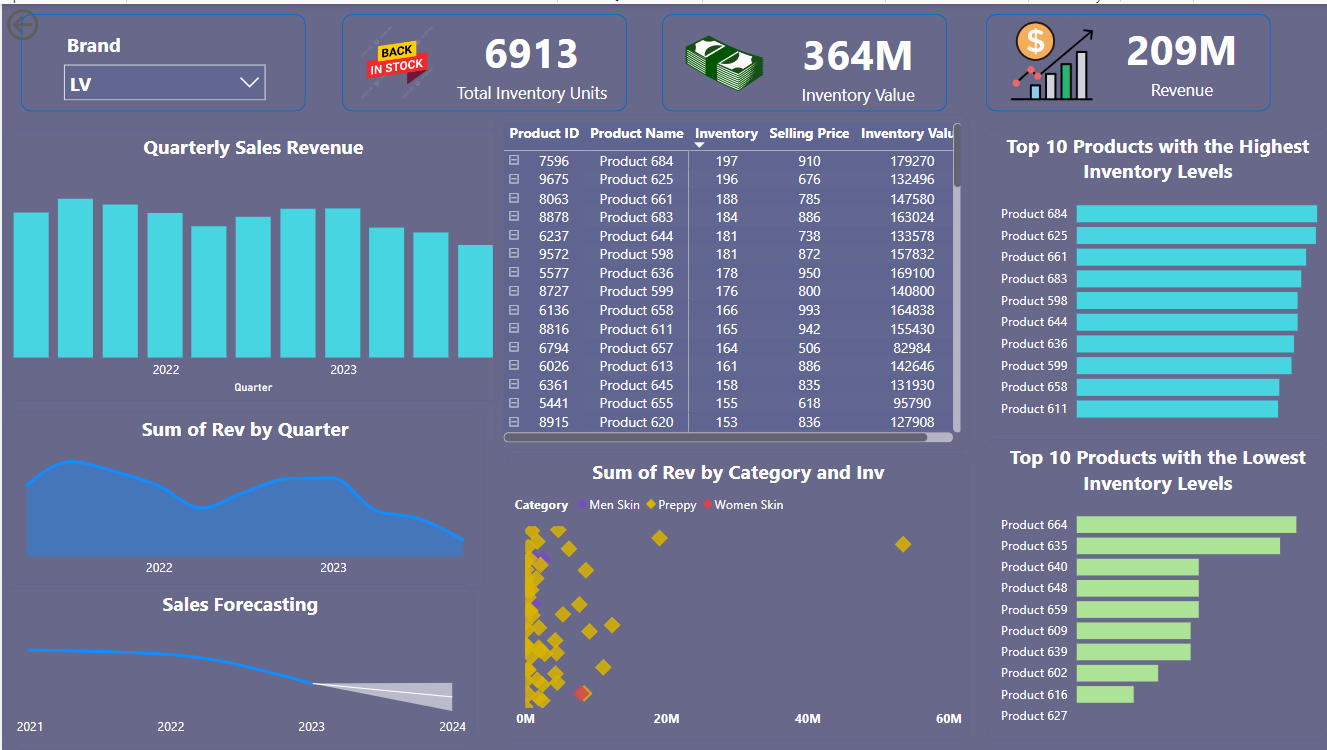

The page's visual inventory and layout, read from the dashboard file:
{"tool":"powerbi","page":{"name":"Page 1","canvas":[1280,720],"ordinal":0},"visuals":[{"type":"pivotTable","fields":{"Rows":["Master.Product ID","Master.Product Name"],"Values":["Sum(Master.Inv)","Calendar.Total SP Value","Calendar.Inventory Value"]},"box":[475,106.2,458.8,323.8],"z":0},{"type":"actionButton","box":[0,0,100,40],"z":1000},{"type":"clusteredColumnChart","title":"Quarterly Sales Revenue","fields":{"Category":["Calendar.Quarter"],"Y":["Sum(Sales.Rev)"]},"box":[2.5,120,478.8,262.5],"z":2000},{"type":"areaChart","title":"Sum of Rev by Quarter","fields":{"Category":["Calendar.Quarter"],"Y":["Sum(Sales.Rev)"]},"box":[2.5,393.8,462.5,171.2],"z":3000},{"type":"clusteredBarChart","title":"Top 10 Products with the Highest Inventory Levels","fields":{"Category":["Master.Product Name"],"Y":["Calendar.Total Inventory Units"]},"box":[949.1,119.4,330.5,295.5],"z":4000},{"type":"clusteredBarChart","title":"Top 10 Products with the Lowest Inventory Levels","fields":{"Category":["Master.Product Name"],"Y":["Calendar.Total Inventory Units"]},"box":[949.1,419.7,330.5,290.7],"z":5000},{"type":"shape","box":[327.8,10,275.1,94.1],"z":6000},{"type":"shape","box":[18.1,9.6,275,94.1],"z":7000},{"type":"shape","box":[949.1,9.6,275,94.1],"z":8000},{"type":"shape","box":[637.1,10,275.1,94.1],"z":9000},{"type":"card","fields":{"Values":["Calendar.Total Inventory Units"]},"box":[408.8,9.6,205,94.1],"z":10000},{"type":"card","fields":{"Values":["Calendar.Inventory Value"]},"box":[723.6,12.1,205,94.1],"z":11000},{"type":"slicer","fields":{"Values":["Master.Brand"]},"box":[49.4,21.7,214.7,71.2],"z":12000},{"type":"card","fields":{"Values":["Sum(Sales.Rev)"]},"box":[1036,7.2,205,94.1],"z":13000},{"type":"image","box":[333.1,11.5,96.9,89.2],"z":14000},{"type":"image","box":[651.5,10,91.5,91.5],"z":15000},{"type":"image","box":[967.7,8.5,91.5,93.1],"z":16000},{"type":"lineChart","title":"Sales Forecasting","fields":{"Y":["Sum(Sales.Rev)"],"Category":["Calendar.Date.Variation.Date Hierarchy.Year"]},"box":[2.5,560,453.8,160],"z":17000},{"type":"scatterChart","fields":{"Y":["Master.Inv"],"Series":["Master.Category"],"X":["Sum(Sales.Rev)"]},"box":[486,434.2,447.4,276.2],"z":18000}]}

Visuals, with their boxes in screenshot pixels (x1, y1, x2, y2), scaled from the page's 1280x720 canvas onto the 1327x750 screenshot:
pivotTable - Master.Product ID x Master.Product Name: (x1=492, y1=111, x2=968, y2=448)
actionButton: (x1=0, y1=0, x2=104, y2=42)
"Quarterly Sales Revenue" clusteredColumnChart: (x1=3, y1=125, x2=499, y2=398)
"Sum of Rev by Quarter" areaChart: (x1=3, y1=410, x2=482, y2=589)
"Top 10 Products with the Highest Inventory Levels" clusteredBarChart: (x1=984, y1=124, x2=1326, y2=432)
"Top 10 Products with the Lowest Inventory Levels" clusteredBarChart: (x1=984, y1=437, x2=1326, y2=740)
shape: (x1=340, y1=10, x2=625, y2=108)
shape: (x1=19, y1=10, x2=304, y2=108)
shape: (x1=984, y1=10, x2=1269, y2=108)
shape: (x1=660, y1=10, x2=946, y2=108)
card - Calendar.Total Inventory Units: (x1=424, y1=10, x2=636, y2=108)
card - Calendar.Inventory Value: (x1=750, y1=13, x2=963, y2=111)
slicer - Master.Brand: (x1=51, y1=23, x2=274, y2=97)
card - Sum(Sales.Rev): (x1=1074, y1=8, x2=1287, y2=106)
image: (x1=345, y1=12, x2=446, y2=105)
image: (x1=675, y1=10, x2=770, y2=106)
image: (x1=1003, y1=9, x2=1098, y2=106)
"Sales Forecasting" lineChart: (x1=3, y1=583, x2=473, y2=749)
scatterChart - Master.Inv x Master.Category: (x1=504, y1=452, x2=968, y2=740)
